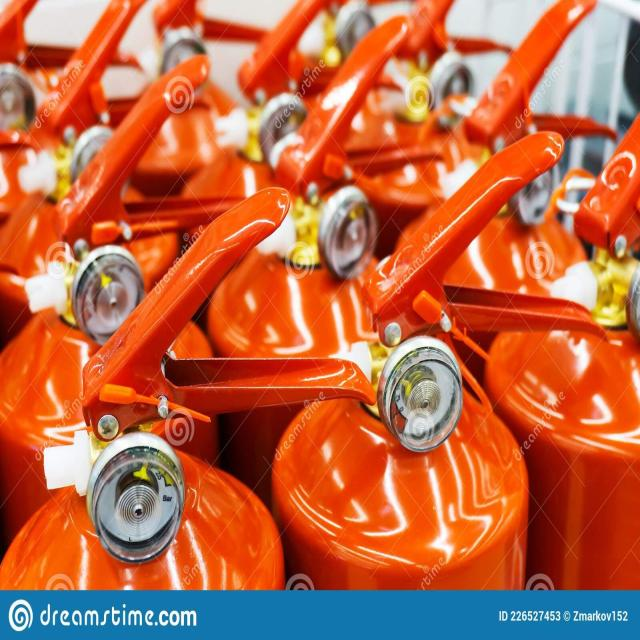fire_extinguisher: (267, 124, 614, 589), (0, 181, 387, 591), (0, 52, 261, 592), (393, 0, 623, 590), (200, 16, 418, 516), (473, 105, 639, 593)
